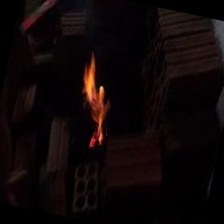fire: (61, 45, 132, 156)
